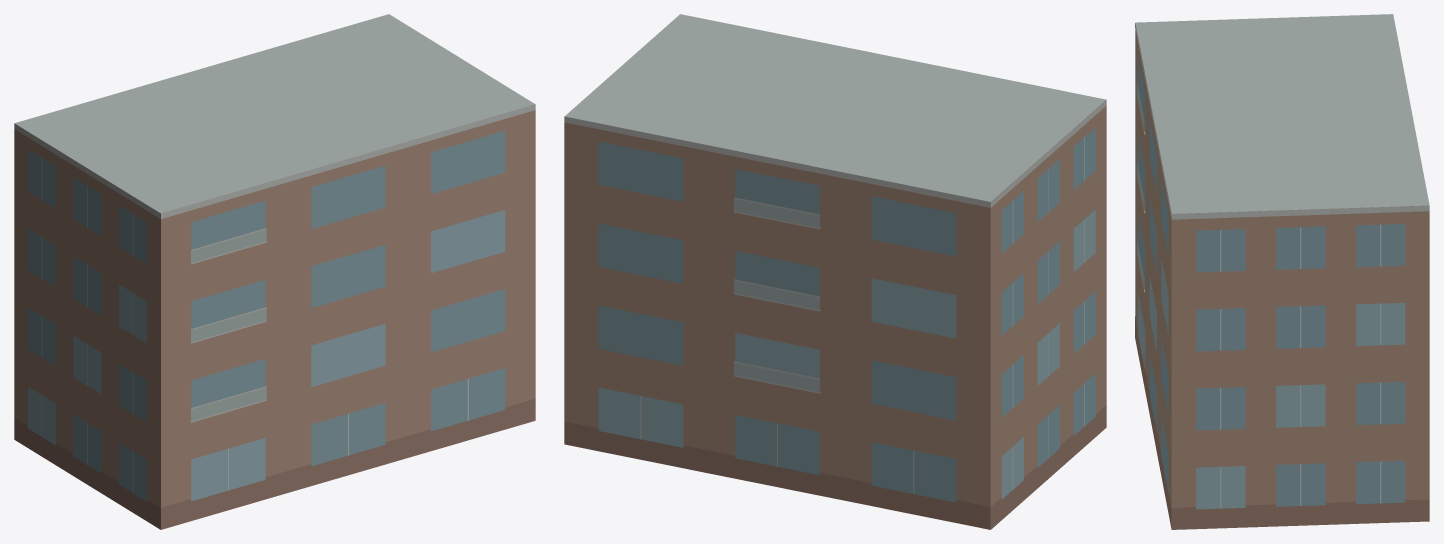
Rendered from survey-upis-32757031.glb.
3 views of the same model, side by side, from view 1: azimuth 30°, elevation 25°; view 2: azimuth 150°, elevation 25°; view 3: azimuth 270°, elevation 25° (orthographic). The views are drawn at different scales.
Parts seen in each view (by area): view 1: survey-upis-32757031.tmp; view 2: survey-upis-32757031.tmp; view 3: survey-upis-32757031.tmp.
Part boxes in pixels (bbox=[...]): survey-upis-32757031.tmp: bbox=[14, 14, 535, 529]; survey-upis-32757031.tmp: bbox=[564, 14, 1106, 529]; survey-upis-32757031.tmp: bbox=[1135, 14, 1429, 529].
Size of the model in its own units: 18.27 by 13.45 by 11.37.
